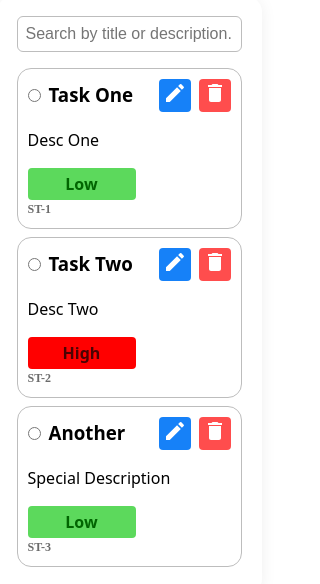
Scenario: TaskList › shows 'No tasks available.' if search yields no results
The width and height of the screenshot is (320, 584).
Type "notfound" into the field with placeholder "Search by title or description..." at (129, 34), box [16,16,242,52]
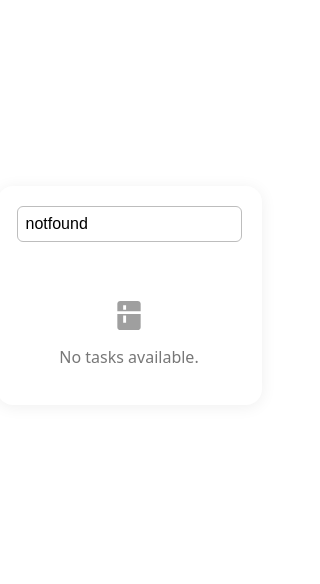
Expected: the text "No tasks available." is shown, [59,298,199,368]
